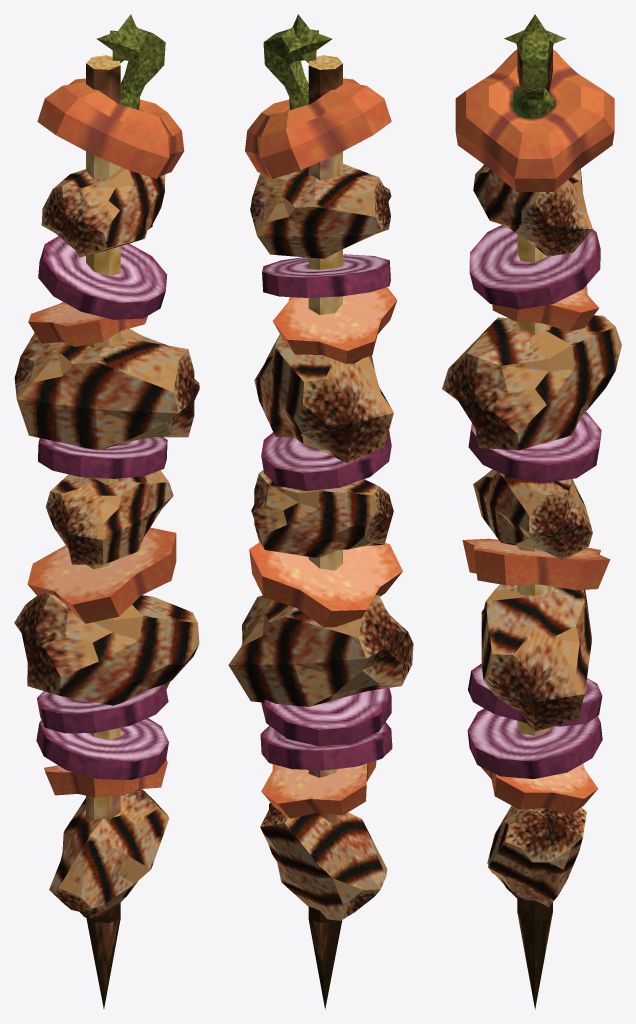
The model's file is souvlaki.fbx.
3 views of the same model, side by side, from view 1: azimuth 30°, elevation 25°; view 2: azimuth 150°, elevation 25°; view 3: azimuth 270°, elevation 25° (orthographic).
Parts seen in each view (by area): view 1: pCube4, pCube2, polySurface1, pCube1, pCube3, pCube5, polySurface3, pCylinder5, pCylinder2, pCylinder1, pCylinder4, pCylinder3 (+2 smaller); view 2: pCube2, polySurface1, pCube4, pCube5, pCube1, pCube3, polySurface3, polySurface4, pCylinder2, pCylinder3, pCylinder4, polySurface2 (+2 smaller); view 3: polySurface1, pCube4, pCube2, pCube3, pCube1, pCylinder5, pCylinder1, pCube5, polySurface3, pCylinder4, pCylinder2, polySurface2 (+2 smaller).
Part boxes in pixels (x1,y1,x2,y2): pCube4: (14, 328, 199, 450); pCube2: (14, 593, 199, 705); polySurface1: (37, 14, 184, 178); pCube1: (49, 789, 169, 919); pCube3: (45, 470, 173, 564); pCube5: (41, 167, 165, 257); polySurface3: (27, 527, 176, 623); pCylinder5: (38, 236, 167, 319); pCylinder2: (86, 55, 120, 1008); pCylinder1: (36, 718, 168, 779); pCylinder4: (38, 437, 167, 478); pCylinder3: (37, 684, 168, 733); pCube2: (228, 595, 413, 706); polySurface1: (245, 14, 391, 178); pCube4: (254, 334, 393, 463); pCube5: (250, 163, 391, 258); pCube1: (260, 803, 387, 920); pCube3: (251, 470, 393, 558); polySurface3: (249, 542, 402, 627); polySurface4: (273, 287, 397, 363); pCylinder2: (308, 55, 342, 1009); pCylinder3: (261, 688, 391, 746); pCylinder4: (261, 430, 391, 490); polySurface2: (261, 760, 376, 818); polySurface1: (455, 14, 614, 191); pCube4: (442, 315, 621, 450); pCube2: (481, 584, 591, 731); pCube3: (473, 469, 592, 560); pCube1: (487, 805, 586, 906); pCylinder5: (469, 225, 600, 309); pCylinder1: (467, 708, 602, 778); pCube5: (473, 165, 592, 256); polySurface3: (462, 538, 610, 590); pCylinder4: (468, 412, 601, 482); pCylinder2: (517, 48, 552, 1009); polySurface2: (481, 763, 598, 814).
Bounding box in the file's own units: 2.84 × 16.64 × 2.69.
1 material, 1 textured.
